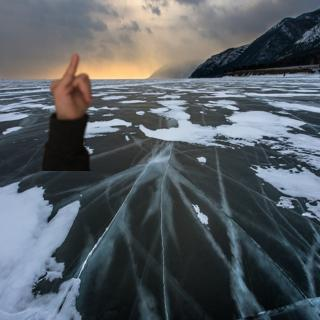HAVE: (44, 50, 98, 118)
